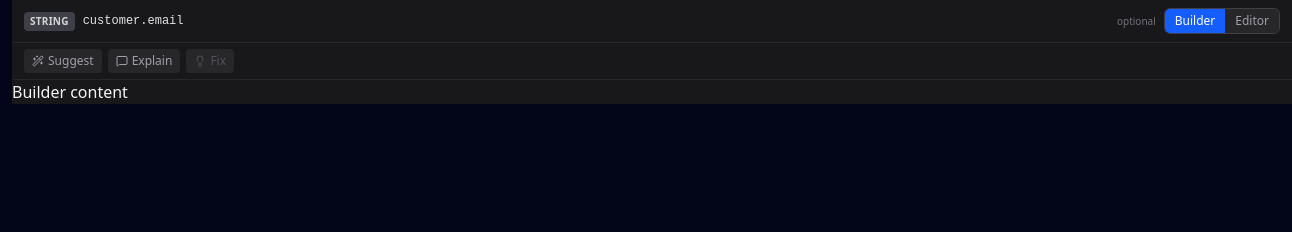
ChainBuilderShell — Explain Rule (FS-041) › explanation panel disappears when targetPath changes
Step 1. Click the button with test id "chain-shell-ai-explain" → (144, 61), box [108,49,180,73]
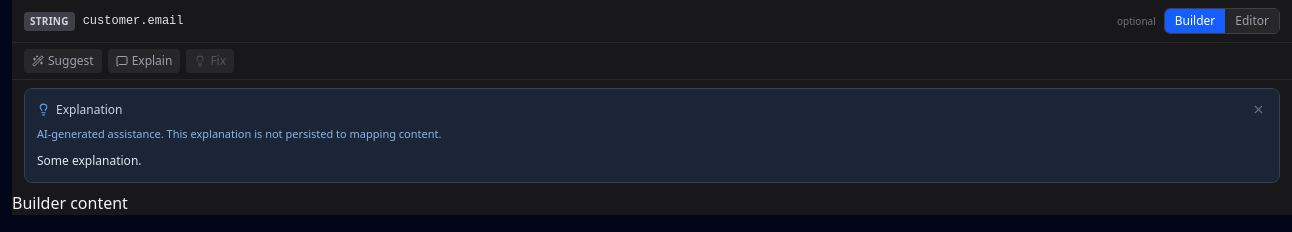
Check: the message with test id "explanation-panel" is shown, box [24,88,1280,183]
